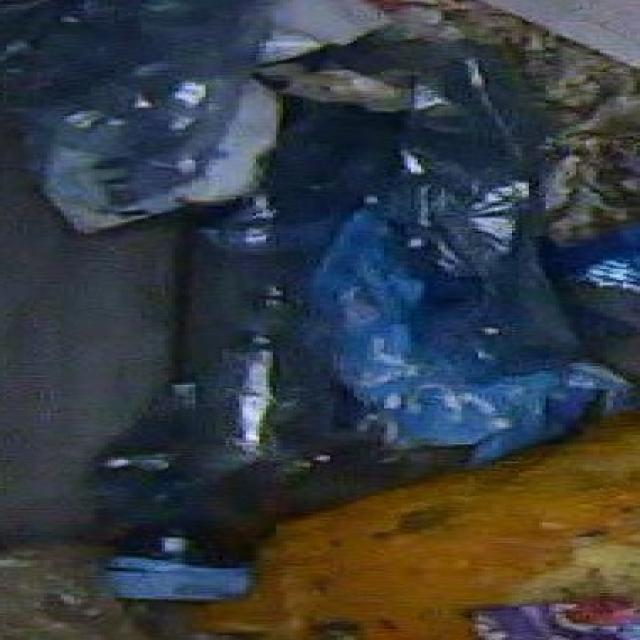litter: (102, 32, 551, 618)
